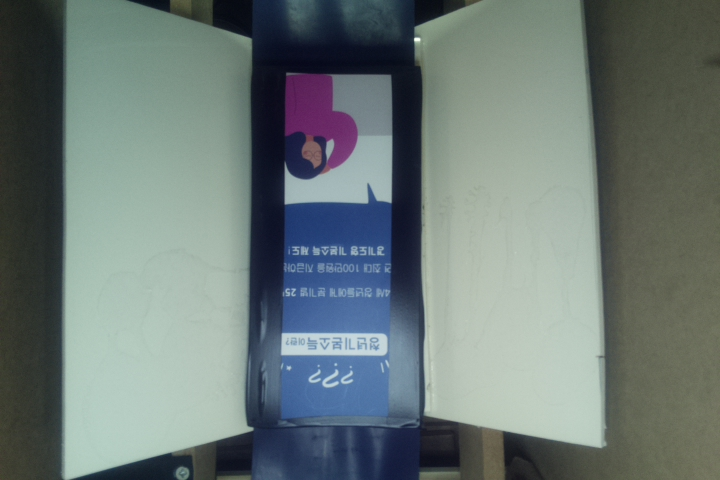book: (244, 63, 424, 429)
